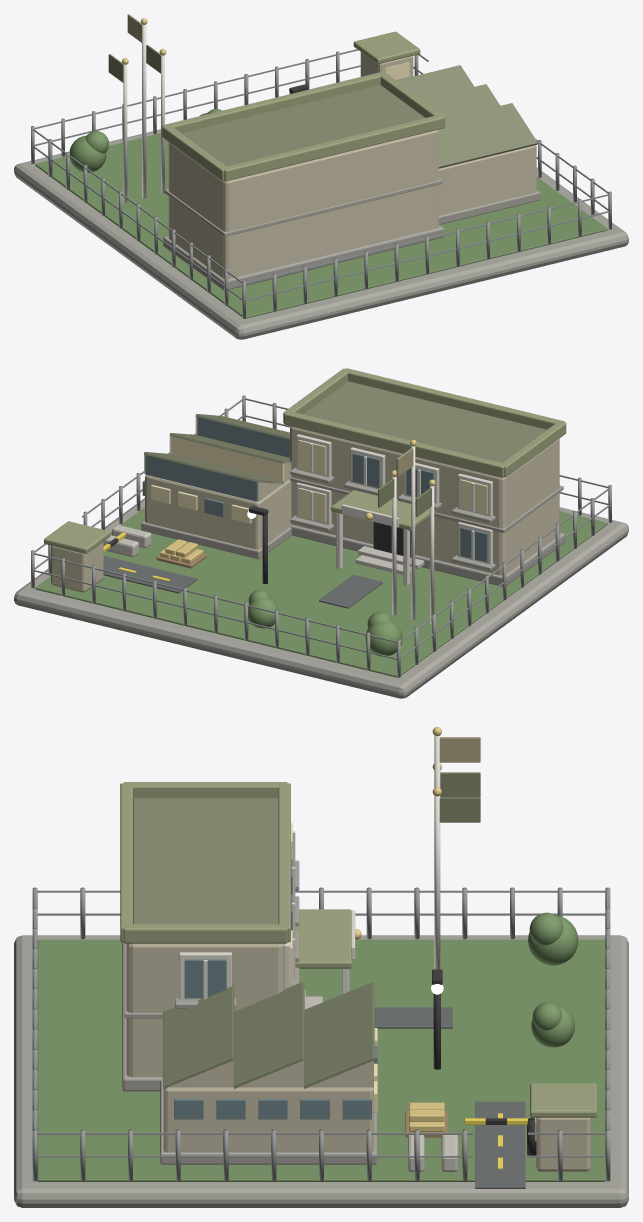
Rendered from treasury_5.glb.
The picture shows the model from 3 angles, top to bottom: view 1: azimuth 30°, elevation 25°; view 2: azimuth 150°, elevation 25°; view 3: azimuth 270°, elevation 25°; orthographic projection. The views are drawn at different scales.
Parts seen in each view (by area): view 1: Cube.014, Cube.001, Cube, Cube.049, Cube.062, Cube.074, Cube.050, Cube.051, Cube.015, Cube.076, Cube.078, Cube.007 (+15 smaller); view 2: Cube.001, Cube, Cube.014, Cube.049, Cube.062, Cube.051, Cube.050, Cube.077, Cube.015, Cube.075, Cube.006, Cube.073 (+37 smaller); view 3: Cube.001, Cube, Cube.049, Cube.062, Cube.014, Cube.078, Cube.076, Cube.074, Cube.002, Cube.053, Cube.056, Cube.063 (+24 smaller).
Boxes of the visible parts, x1=… form: Cube.014: x1=168, y1=130, x2=438, y2=278; Cube.001: x1=35, y1=133, x2=607, y2=318; Cube: x1=14, y1=129, x2=628, y2=339; Cube.049: x1=182, y1=85, x2=424, y2=166; Cube.062: x1=438, y1=145, x2=536, y2=215; Cube.074: x1=438, y1=103, x2=537, y2=168; Cube.050: x1=223, y1=114, x2=444, y2=181; Cube.051: x1=163, y1=72, x2=383, y2=133; Cube.015: x1=163, y1=224, x2=443, y2=290; Cube.076: x1=422, y1=84, x2=500, y2=118; Cube.078: x1=397, y1=65, x2=474, y2=99; Cube.007: x1=353, y1=31, x2=420, y2=63; Cube.001: x1=35, y1=507, x2=607, y2=677; Cube: x1=14, y1=498, x2=628, y2=698; Cube.014: x1=290, y1=426, x2=559, y2=575; Cube.049: x1=303, y1=381, x2=546, y2=462; Cube.062: x1=145, y1=475, x2=291, y2=549; Cube.051: x1=284, y1=411, x2=504, y2=477; Cube.050: x1=344, y1=368, x2=565, y2=429; Cube.077: x1=145, y1=455, x2=258, y2=501; Cube.015: x1=290, y1=524, x2=565, y2=586; Cube.075: x1=171, y1=436, x2=284, y2=481; Cube.006: x1=51, y1=541, x2=103, y2=592; Cube.073: x1=197, y1=417, x2=289, y2=457; Cube.001: x1=37, y1=939, x2=605, y2=1181; Cube: x1=14, y1=935, x2=628, y2=1207; Cube.049: x1=133, y1=798, x2=278, y2=924; Cube.062: x1=163, y1=1087, x2=373, y2=1152; Cube.014: x1=126, y1=943, x2=284, y2=1076; Cube.078: x1=304, y1=982, x2=374, y2=1088; Cube.076: x1=233, y1=982, x2=304, y2=1088; Cube.074: x1=163, y1=984, x2=234, y2=1088; Cube.002: x1=475, y1=1101, x2=525, y2=1188; Cube.053: x1=123, y1=924, x2=287, y2=943; Cube.056: x1=295, y1=909, x2=351, y2=968; Cube.063: x1=160, y1=1080, x2=377, y2=1164.
Bounding box in the file's own units: 2.92 × 1.39 × 2.92.
